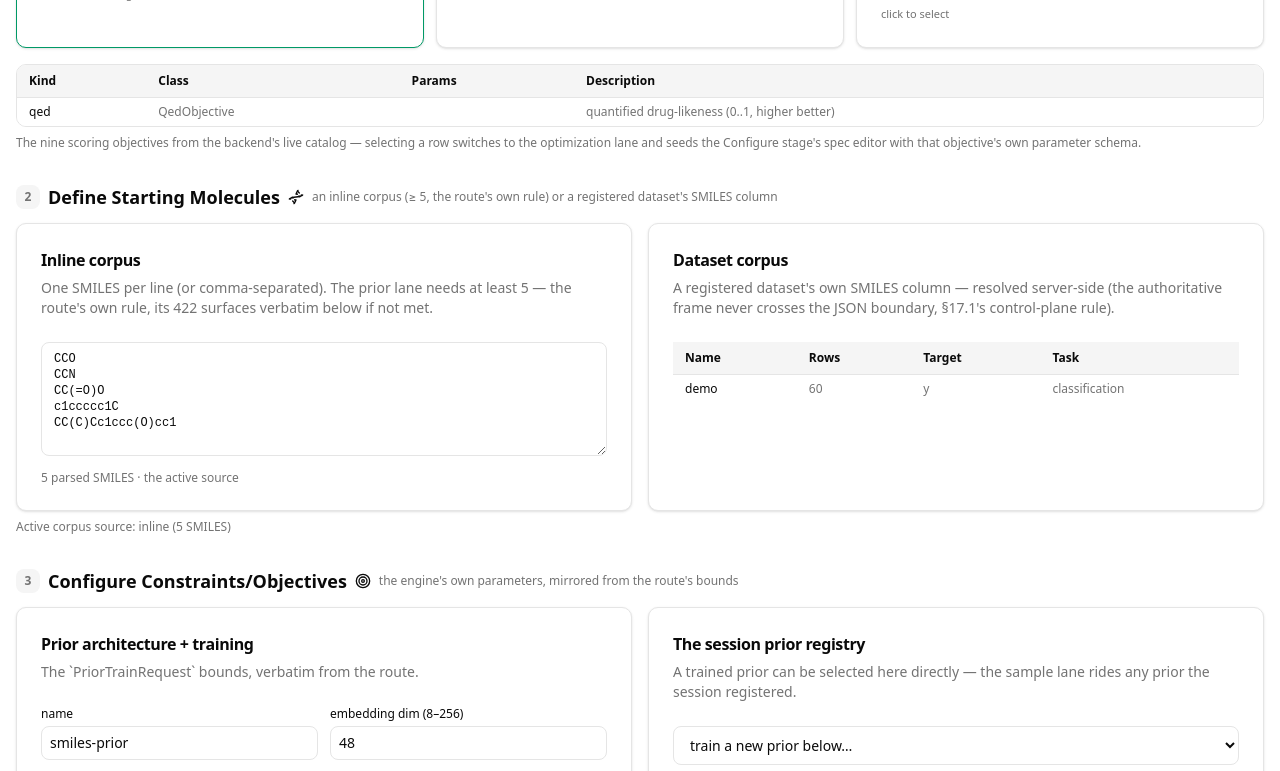
Scenario: the GAN lane — train, sample, the parity report › samples with the honest parity report
(page scrolled)
Click the text "demo" at (956, 388), box top-left (673, 374), bottom-right (1239, 402)
(page scrolled)
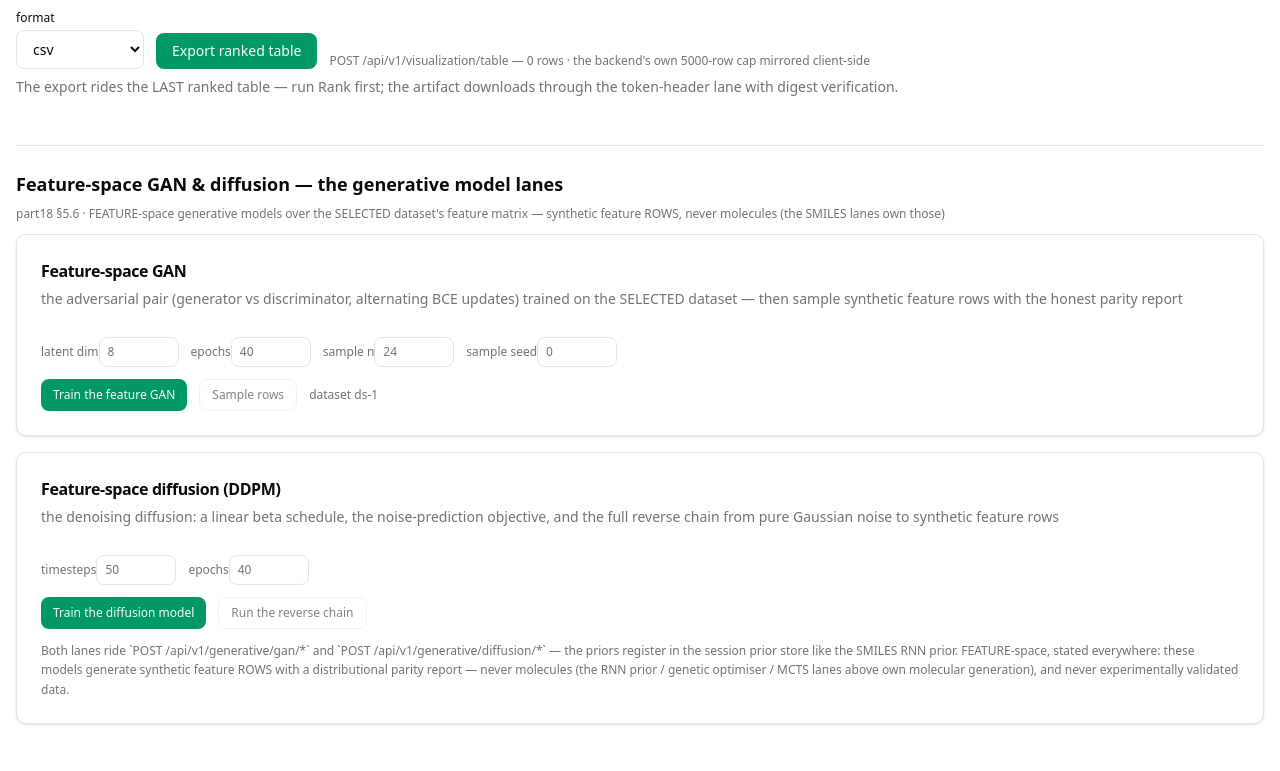
Result: the button "Train the feature GAN" is enabled
Click the button "Train the feature GAN" at (114, 394), box top-left (41, 378), bottom-right (187, 410)
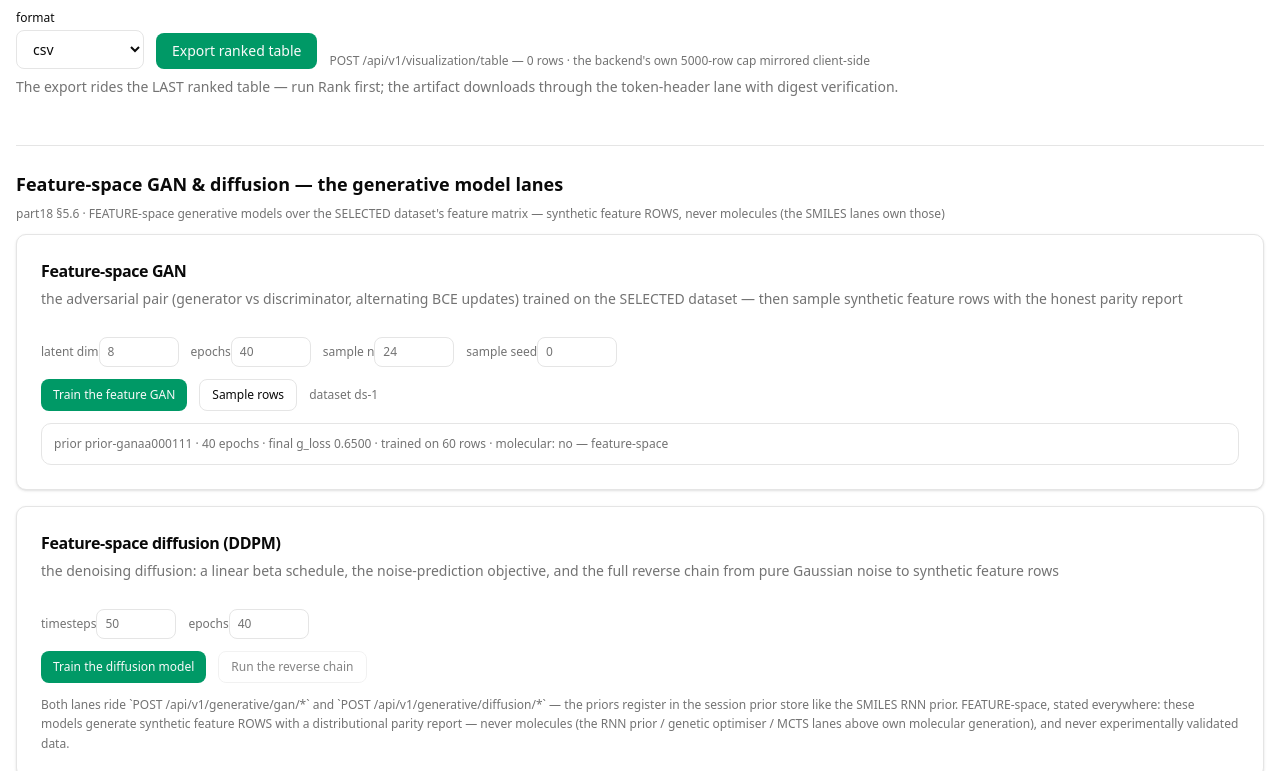
Result: the button "Sample rows" is enabled
Click the button "Sample rows" at (248, 394), box top-left (199, 378), bottom-right (297, 410)
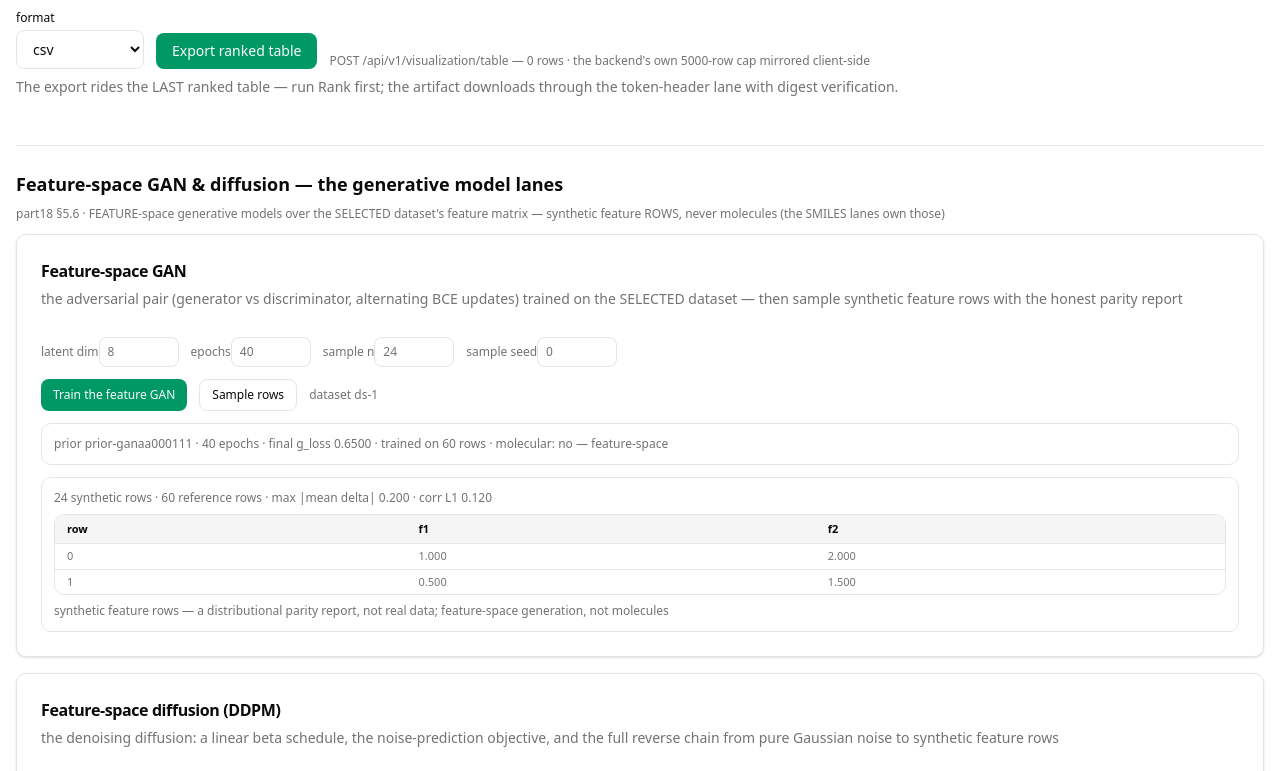
Result: the text "corr L1 0.120" is shown at top-left (54, 488), bottom-right (492, 506)
Result: the text "not real data" is shown at top-left (54, 602), bottom-right (669, 619)
